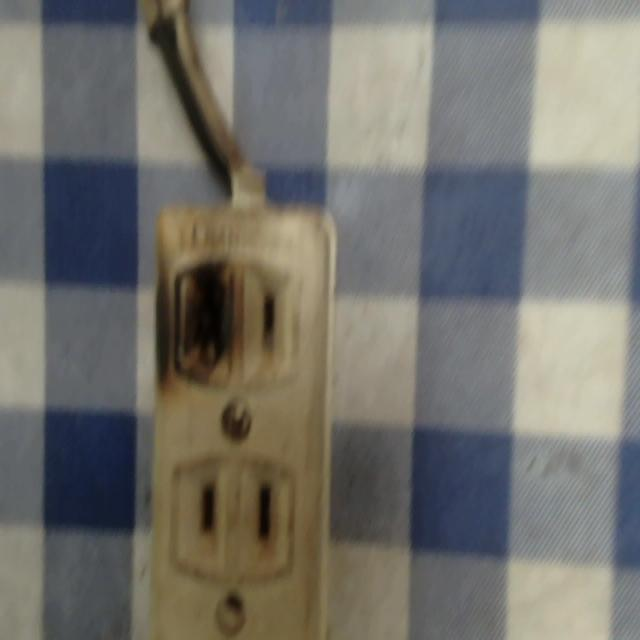-: (155, 252, 247, 392)
